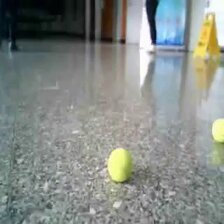tennis: (106, 148, 136, 182)
